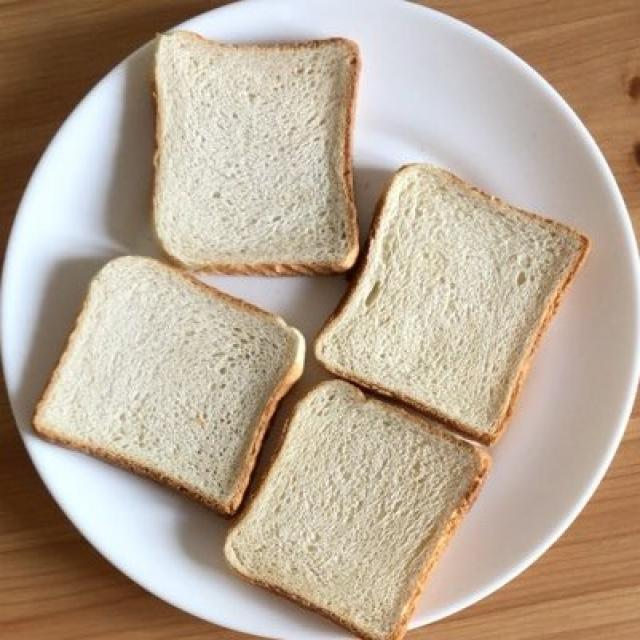bread: (36, 40, 586, 640)
